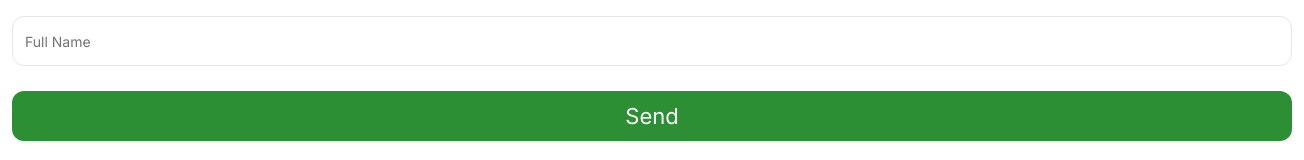
CmsFormRenderer › keeps the working Netlify POST and does not use the auxiliary wc-track submit
This screenshot has width=1304, height=160.
Later steps or results of the test are not shown.
Type "Jane Doe" into the field named "fullName".
click(652, 41); type("Jane Doe")  # box [12, 16, 1292, 66]
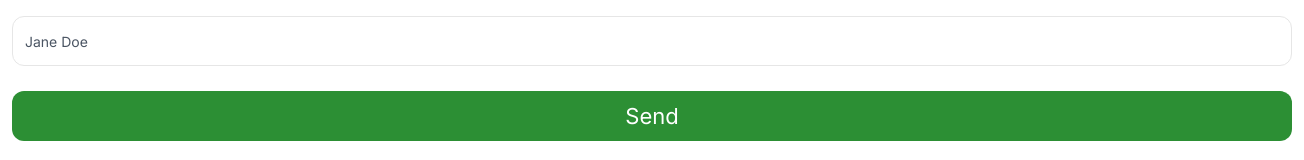
Submit the form
Wait 2000 ms
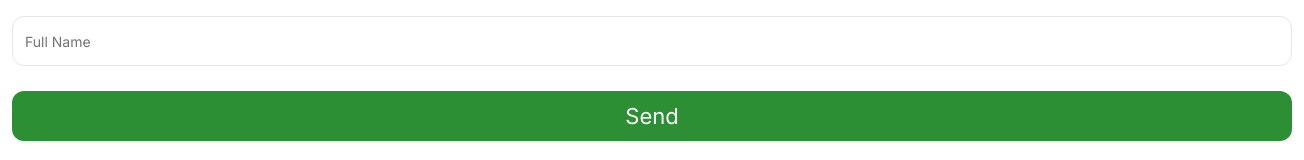
Check: the field named "fullName" is empty, box [12, 16, 1292, 66]
